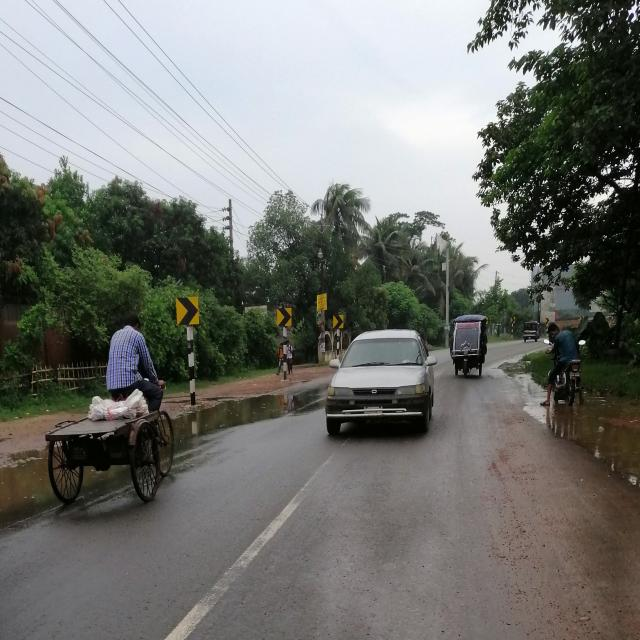Car: (316, 319, 443, 447)
Easybike: (447, 309, 497, 387)
Motorbike: (547, 345, 593, 412)
Van: (44, 380, 190, 510)
